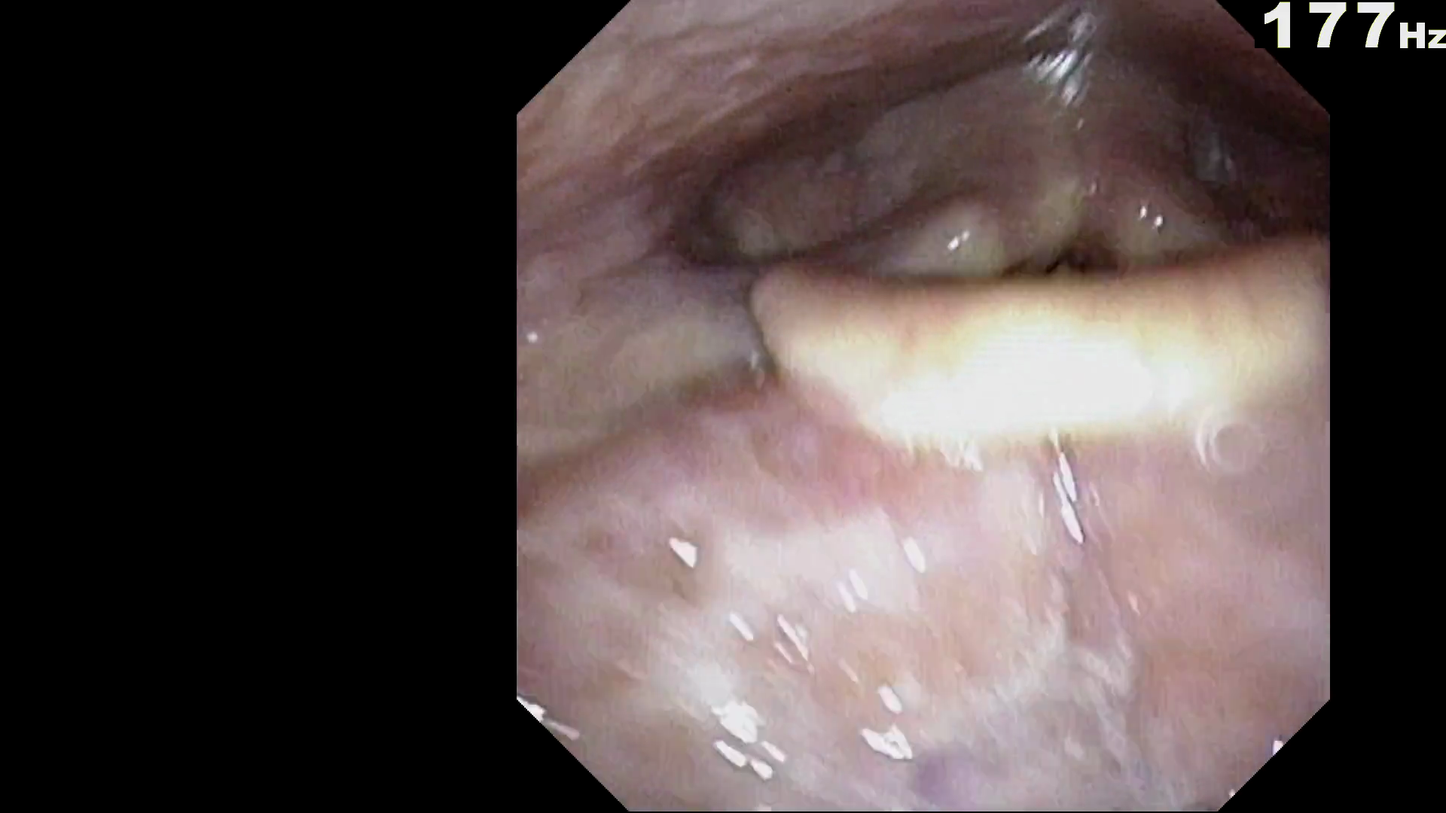epiglottis: (737, 217, 1314, 502)
trachea: (989, 151, 1136, 305)
